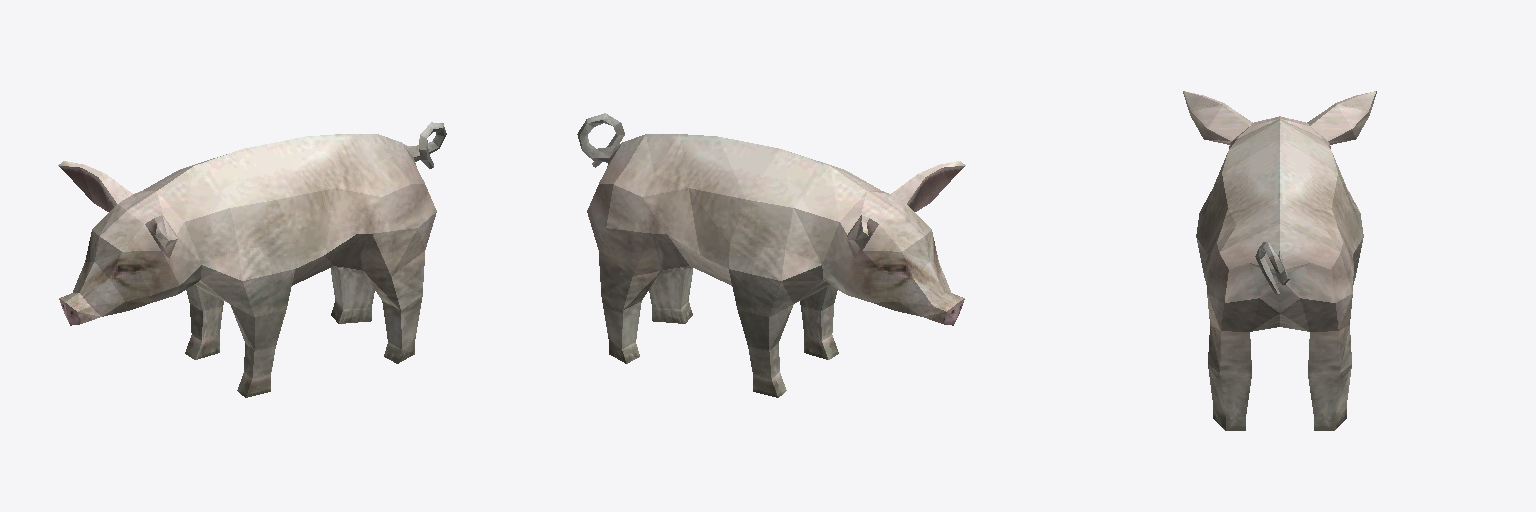
The picture shows the model from 3 angles: view 1: azimuth 30°, elevation 25°; view 2: azimuth 150°, elevation 25°; view 3: azimuth 270°, elevation 25°; orthographic projection.
Parts seen in each view (by area): view 1: material_0; view 2: material_0; view 3: material_0.
Boxes of the visible parts, <box> form: material_0: <box>58,122,446,397</box>; material_0: <box>577,113,965,397</box>; material_0: <box>1183,91,1376,430</box>.
Bounding box in the file's own units: 95.58 × 52.81 × 42.13.
1 materials, 1 textured.